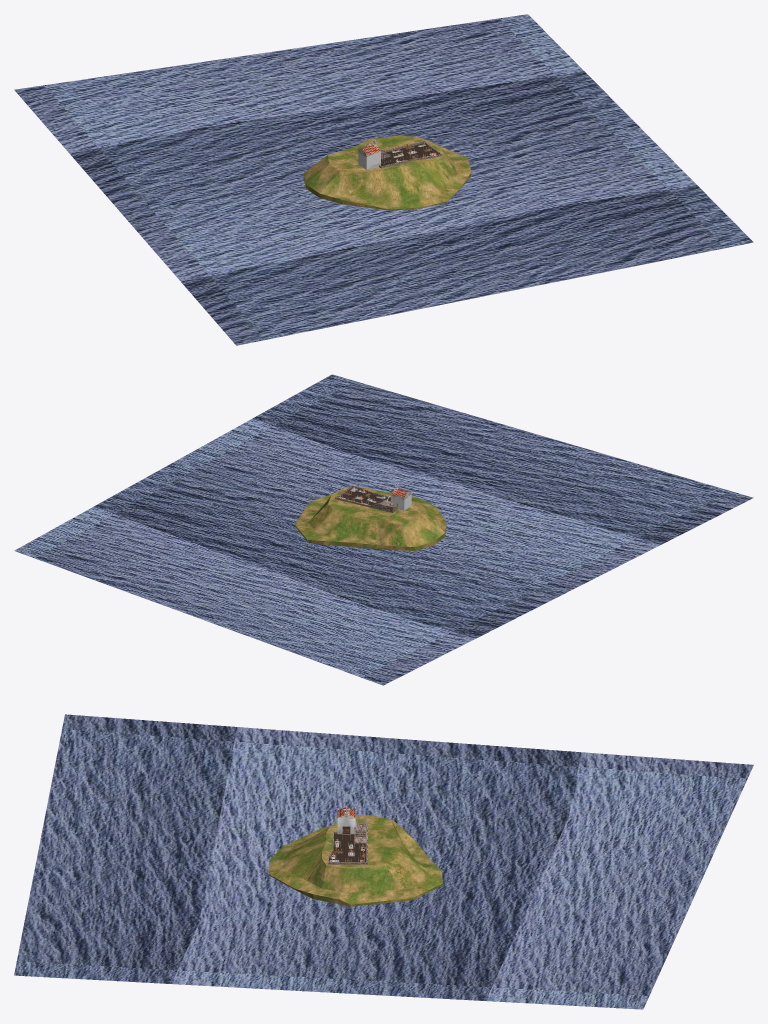
The model's file is temporal.obj.
3 views of the same model, one above another, from view 1: azimuth 30°, elevation 25°; view 2: azimuth 150°, elevation 25°; view 3: azimuth 270°, elevation 25° (orthographic). The views are drawn at different scales.
Visible parts, largest first — view 1: Icosphere.108; view 2: Icosphere.108; view 3: Icosphere.108.
Boxes of the visible parts, x1,y1,x2,y2 form: Icosphere.108: (14,14,753,345); Icosphere.108: (14,374,753,685); Icosphere.108: (14,714,753,1009).
Size of the model in its own units: 64.02 by 5 by 67.81.
